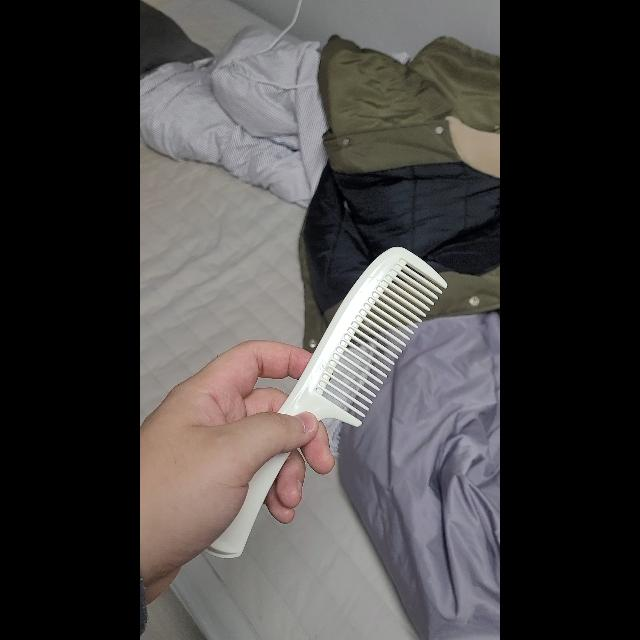COMB: (205, 246, 448, 558)
